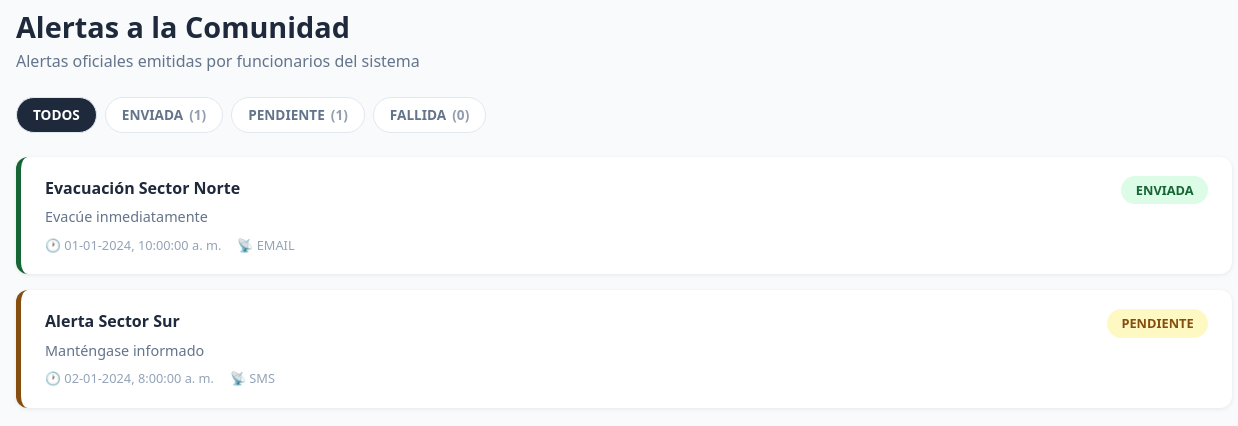
Alertas — filtros de estado › filtra por PENDIENTE correctamente
Expected: the text "Evacuación Sector Norte" is shown, [45,177,240,199]
Click the button "PENDIENTE(1)" at [298, 115], box [231,97,365,132]
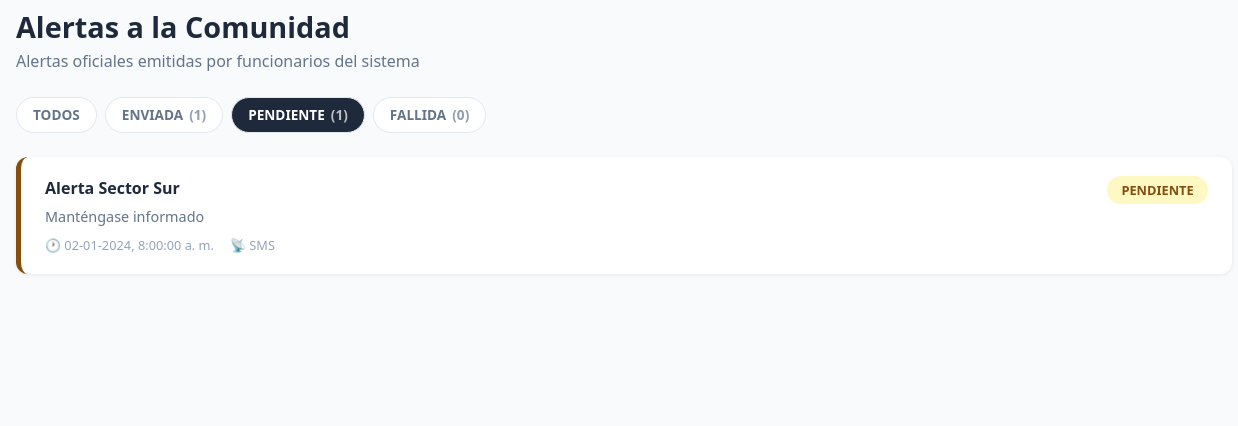
Expected: the text "Alerta Sector Sur" is shown, [45,177,180,199]
Expected: the text "Evacuación Sector Norte" is gone
